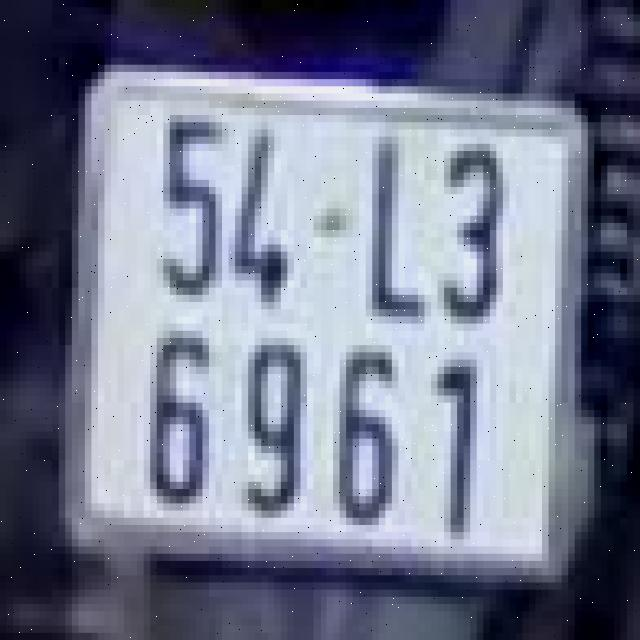1: (431, 345, 503, 561)
3: (440, 133, 512, 334)
4: (232, 119, 297, 312)
5: (144, 104, 228, 313)
6: (329, 342, 402, 528), (144, 331, 216, 518)
9: (235, 338, 314, 525)
L: (353, 122, 431, 324)
